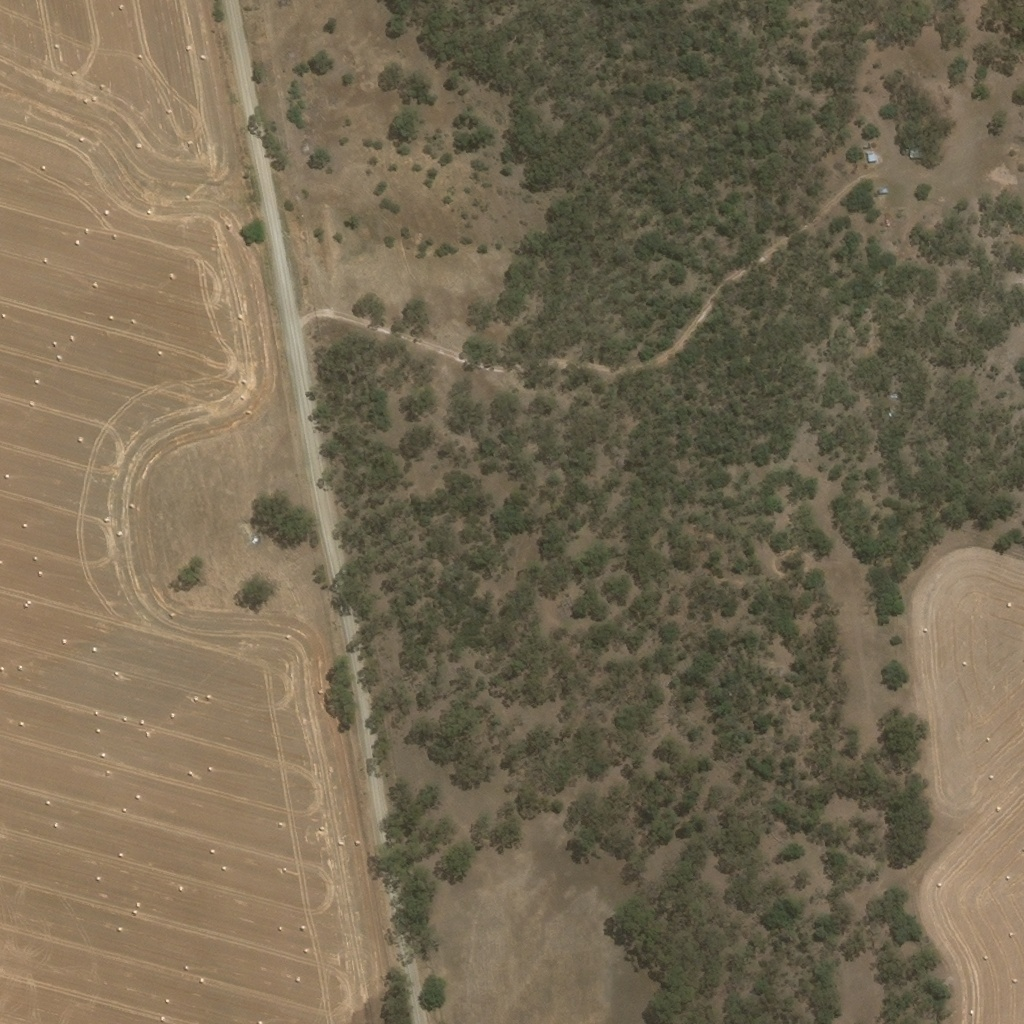0 no-damage: (909, 136, 922, 156), (865, 144, 877, 158), (880, 183, 890, 190)
